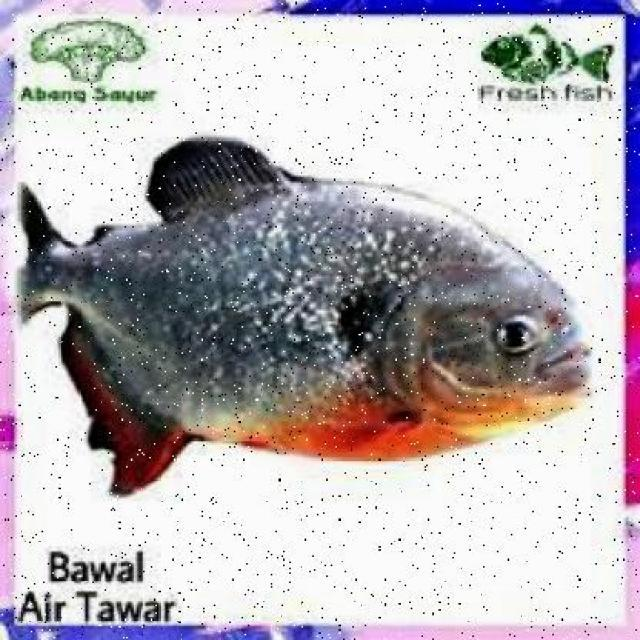ikan-pacu: (37, 150, 586, 476)
